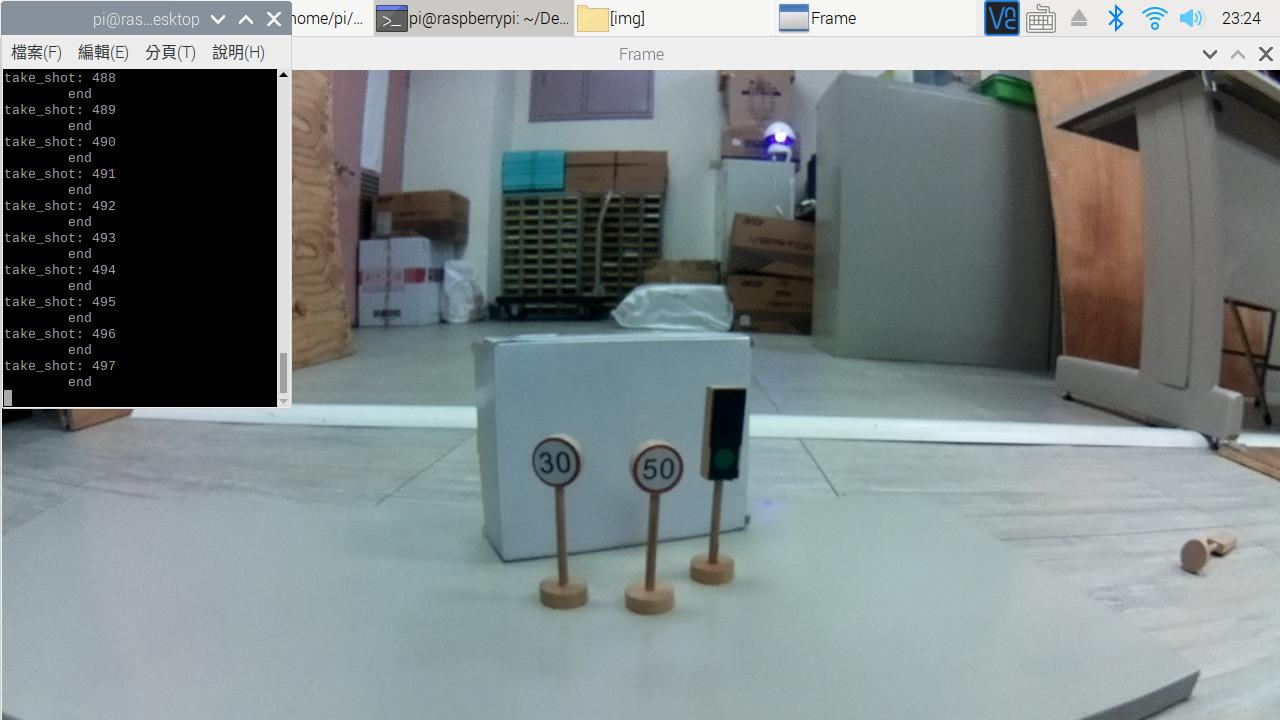Green: (701, 366, 750, 488)
Speed30: (526, 435, 590, 494)
Speed50: (622, 436, 687, 503)
